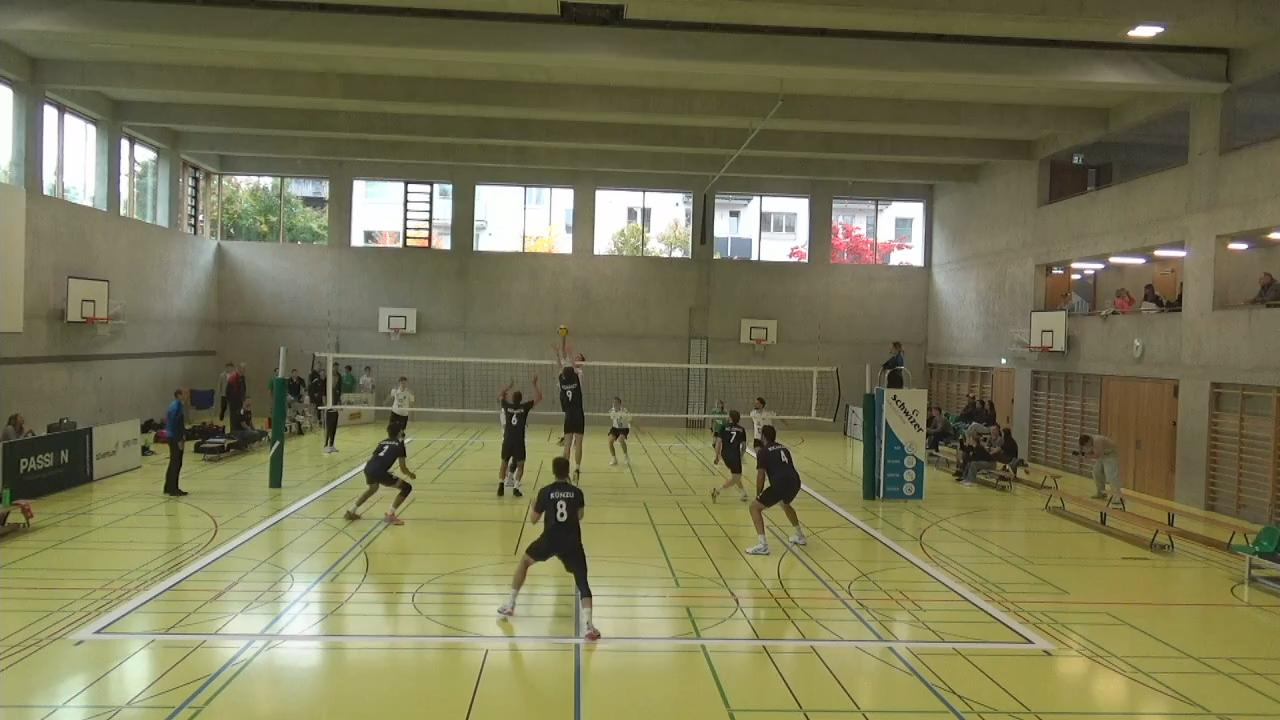Attack: (551, 326, 585, 386)
Block: (552, 334, 588, 484)
Player: (496, 456, 599, 639), (746, 426, 809, 554), (344, 416, 415, 525), (494, 380, 536, 498), (707, 407, 749, 502), (605, 396, 634, 471), (699, 393, 728, 463), (387, 376, 413, 443), (749, 394, 773, 446)
ball: (555, 325, 570, 341)
